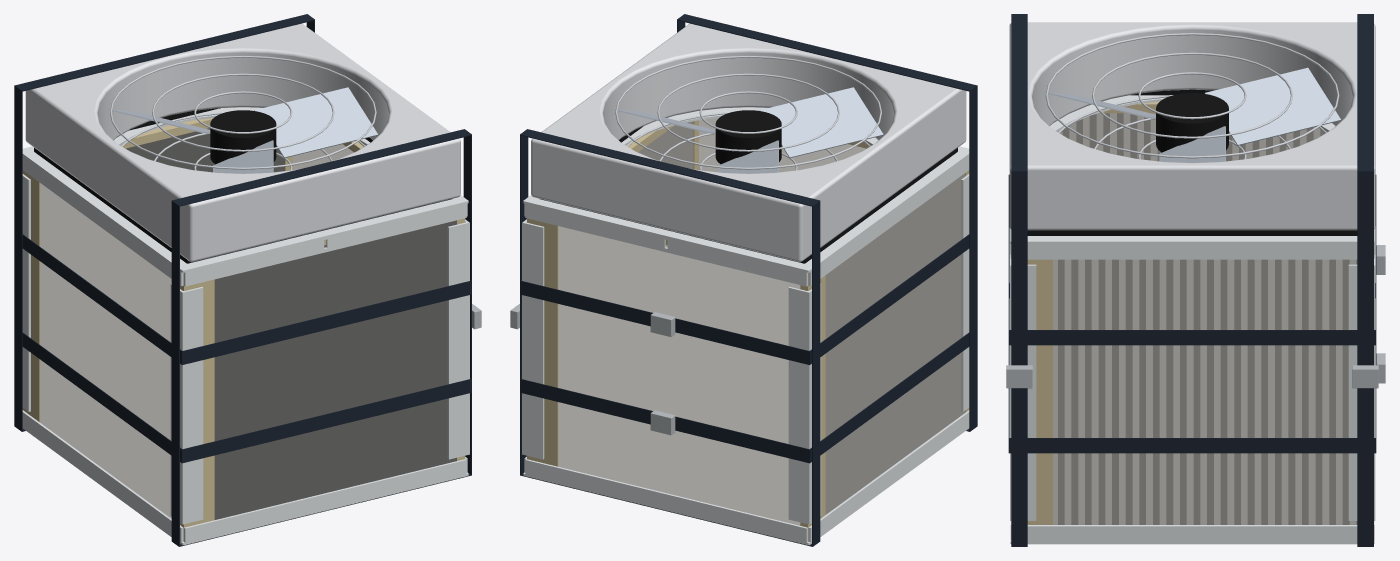
The picture shows the model from 3 angles, left to right: view 1: azimuth 30°, elevation 25°; view 2: azimuth 150°, elevation 25°; view 3: azimuth 270°, elevation 25°; orthographic projection. The views are drawn at different scales.
Parts seen in each view (by area): view 1: MERV-13 pleated media (south), Existing 20 in box fan (not in the kit), MERV-13 pleated media (west), Fan deck, corrugated PP 4 mm, scored and folded, Base tray, corrugated PP 4 mm, scored and folded, Cam strap, 25 mm, fan hold-down (-Y), Cam strap, 25 mm, horizontal (lower), Cam strap, 25 mm, horizontal (upper), Cam strap, 25 mm, fan hold-down (+Y), Corner angle 3, corrugated PP 4 mm, scored and folded, Box fan blade 1 (context), Corner angle 4, corrugated PP 4 mm, scored and folded (+10 smaller); view 2: MERV-13 pleated media (north), Existing 20 in box fan (not in the kit), MERV-13 pleated media (west), Fan deck, corrugated PP 4 mm, scored and folded, Base tray, corrugated PP 4 mm, scored and folded, Cam strap, 25 mm, fan hold-down (+Y), Cam strap, 25 mm, horizontal (upper), Cam strap, 25 mm, horizontal (lower), Cam strap, 25 mm, fan hold-down (-Y), Corner angle 2, corrugated PP 4 mm, scored and folded, Box fan blade 3 (context), Corner angle 1, corrugated PP 4 mm, scored and folded (+10 smaller); view 3: MERV-13 pleated media (east), Existing 20 in box fan (not in the kit), Fan deck, corrugated PP 4 mm, scored and folded, Cam strap, 25 mm, fan hold-down (+Y), Cam strap, 25 mm, fan hold-down (-Y), Base tray, corrugated PP 4 mm, scored and folded, Cam strap, 25 mm, horizontal (upper), Box fan blade 2 (context), Cam strap, 25 mm, horizontal (lower), Box fan guard (context), MERV-13 pleated media (west), Box fan motor (context) (+9 smaller).
Boxes of the visible parts, x1,y1,x2,y2 form: MERV-13 pleated media (south): [214, 220, 456, 519]; Existing 20 in box fan (not in the kit): [25, 23, 460, 262]; MERV-13 pleated media (west): [40, 183, 171, 518]; Fan deck, corrugated PP 4 mm, scored and folded: [22, 107, 468, 286]; Base tray, corrugated PP 4 mm, scored and folded: [22, 410, 468, 545]; Cam strap, 25 mm, fan hold-down (-Y): [171, 129, 471, 546]; Cam strap, 25 mm, horizontal (lower): [22, 332, 471, 463]; Cam strap, 25 mm, horizontal (upper): [22, 234, 471, 364]; Cam strap, 25 mm, fan hold-down (+Y): [14, 14, 314, 431]; Corner angle 3, corrugated PP 4 mm, scored and folded: [170, 283, 203, 524]; Box fan blade 1 (context): [254, 87, 378, 157]; Corner angle 4, corrugated PP 4 mm, scored and folded: [447, 219, 469, 459]; MERV-13 pleated media (north): [558, 226, 800, 525]; Existing 20 in box fan (not in the kit): [531, 23, 966, 262]; MERV-13 pleated media (west): [825, 173, 964, 514]; Fan deck, corrugated PP 4 mm, scored and folded: [523, 107, 969, 286]; Base tray, corrugated PP 4 mm, scored and folded: [523, 410, 969, 545]; Cam strap, 25 mm, fan hold-down (+Y): [520, 129, 820, 546]; Cam strap, 25 mm, horizontal (upper): [520, 234, 969, 364]; Cam strap, 25 mm, horizontal (lower): [520, 332, 969, 463]; Cam strap, 25 mm, fan hold-down (-Y): [677, 14, 977, 431]; Corner angle 2, corrugated PP 4 mm, scored and folded: [788, 283, 821, 524]; Box fan blade 3 (context): [759, 87, 883, 157]; Corner angle 1, corrugated PP 4 mm, scored and folded: [522, 219, 544, 459]; MERV-13 pleated media (east): [1053, 259, 1357, 524]; Existing 20 in box fan (not in the kit): [1009, 22, 1375, 230]; Fan deck, corrugated PP 4 mm, scored and folded: [1010, 95, 1374, 259]; Cam strap, 25 mm, fan hold-down (+Y): [1357, 14, 1373, 546]; Cam strap, 25 mm, fan hold-down (-Y): [1011, 14, 1027, 546]; Base tray, corrugated PP 4 mm, scored and folded: [1010, 521, 1374, 544]; Cam strap, 25 mm, horizontal (upper): [1008, 174, 1376, 345]; Box fan blade 2 (context): [1204, 67, 1340, 145]; Cam strap, 25 mm, horizontal (lower): [1008, 283, 1376, 453]; Box fan guard (context): [1045, 33, 1339, 159]; MERV-13 pleated media (west): [1058, 113, 1326, 161]; Box fan motor (context): [1156, 93, 1228, 152].
Bounding box in the file's own units: 0.576 × 0.6385 × 0.5725.
